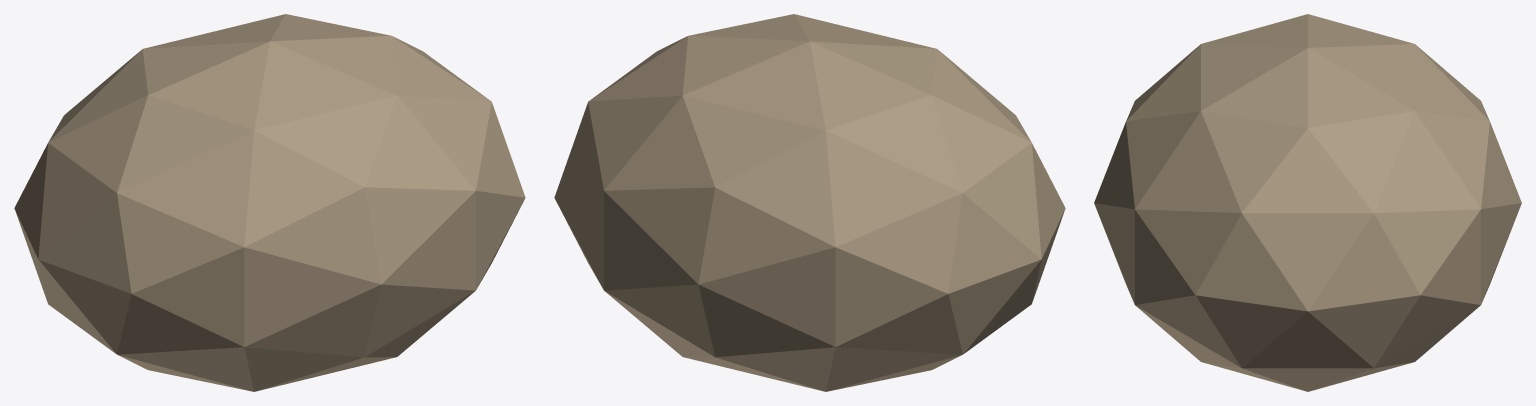
Rendered from Boulder__Small.fbx.
3 renders of one model, left to right at view 1: azimuth 30°, elevation 25°; view 2: azimuth 150°, elevation 25°; view 3: azimuth 270°, elevation 25°, orthographic. The views are drawn at different scales.
Visible parts, largest first — view 1: Boulder__Small; view 2: Boulder__Small; view 3: Boulder__Small.
Part boxes in pixels (box(x1,y1,x2,y2)): Boulder__Small: box(14, 14, 525, 391); Boulder__Small: box(554, 14, 1065, 391); Boulder__Small: box(1094, 14, 1521, 391).
Bounding box in the file's own units: 120 × 80 × 100.
Materials: 1 (1 with a texture image).
